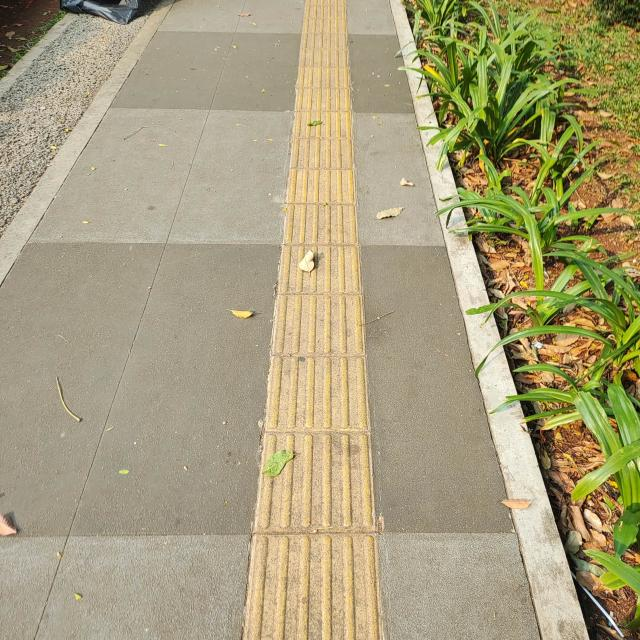lurus: (255, 0, 376, 640)
